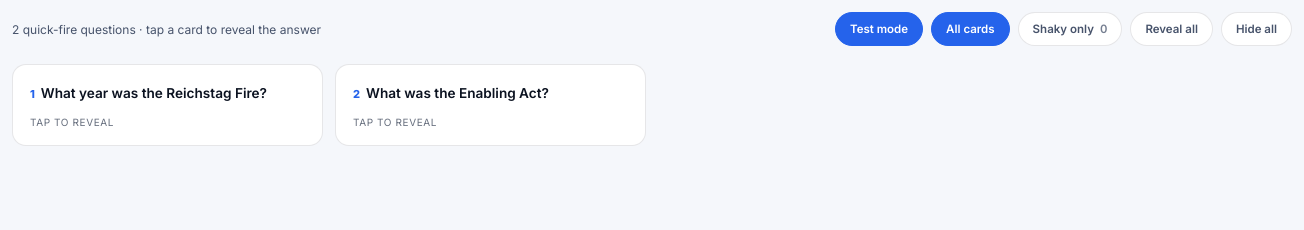
TriviaGrid › rating a card shaky updates the shaky count and persists
Click the button "What year was the Reichstag Fire?". click: (154, 93)
box: [12,64,323,146]
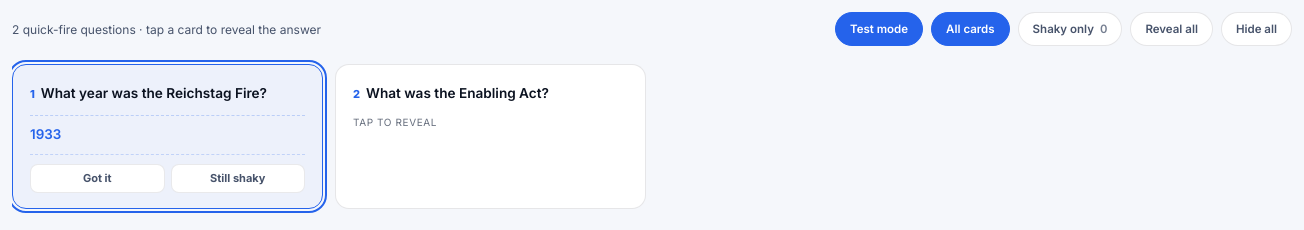
Click the button "Still shaky". click: (238, 179)
box: [170,164,305,193]
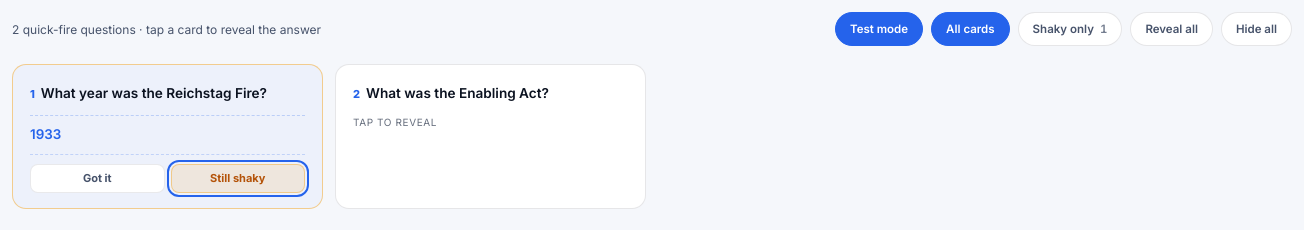
Expected: the button "Shaky only 1" is shown, [1018,12,1122,46]
